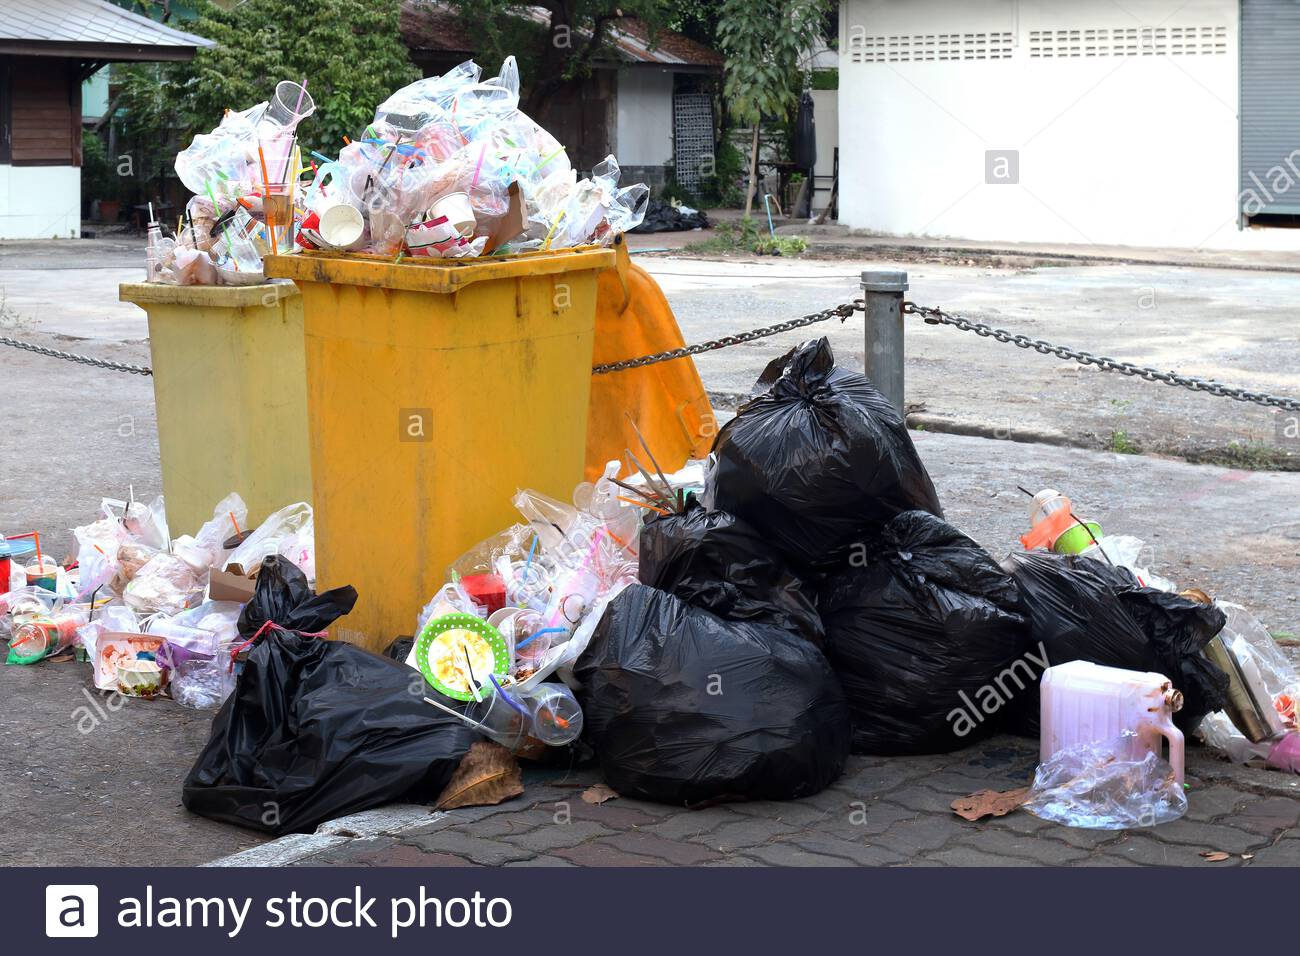plastic_bagwdw: (789, 449, 1158, 891), (162, 516, 564, 906), (524, 435, 877, 853), (689, 240, 974, 677), (961, 450, 1300, 760), (591, 352, 836, 706), (953, 370, 986, 441)
